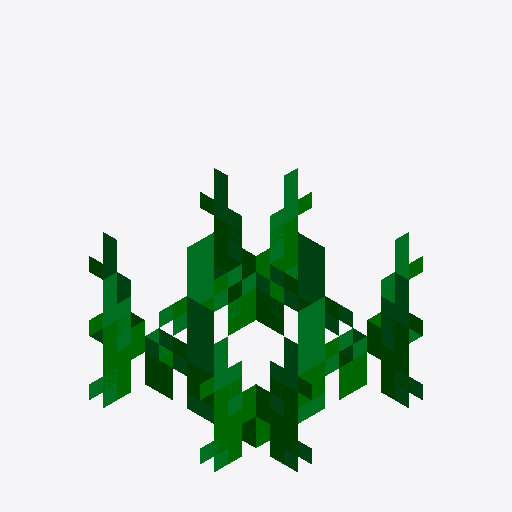
Isometric view (azimuth 45°, elevation 35.3°) of a Minecraft model made of 4 cuboids, textured from the same repository.
Parts seen in each view (by area): element 2, element 3, element 1, element 4.
Part boxes in pixels (x1,y1,x2,y2): element 2: (200,168,422,407); element 3: (89,168,311,407); element 1: (89,232,311,471); element 4: (200,232,422,471).
Bounding box in the file's own units: 16 × 16 × 16.